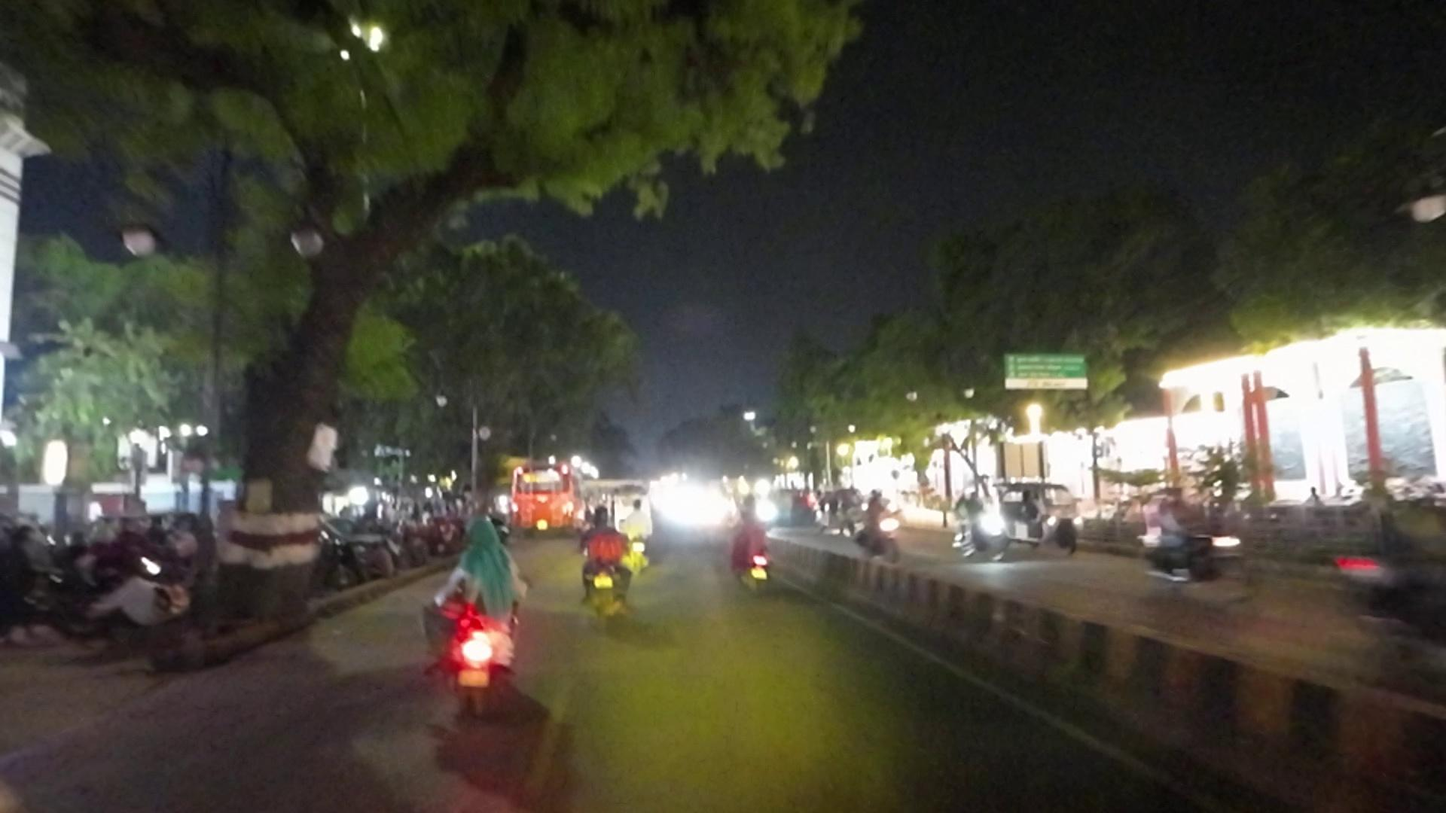streetlight: (111, 189, 171, 271), (279, 200, 336, 271), (953, 375, 988, 410), (900, 373, 926, 412)
